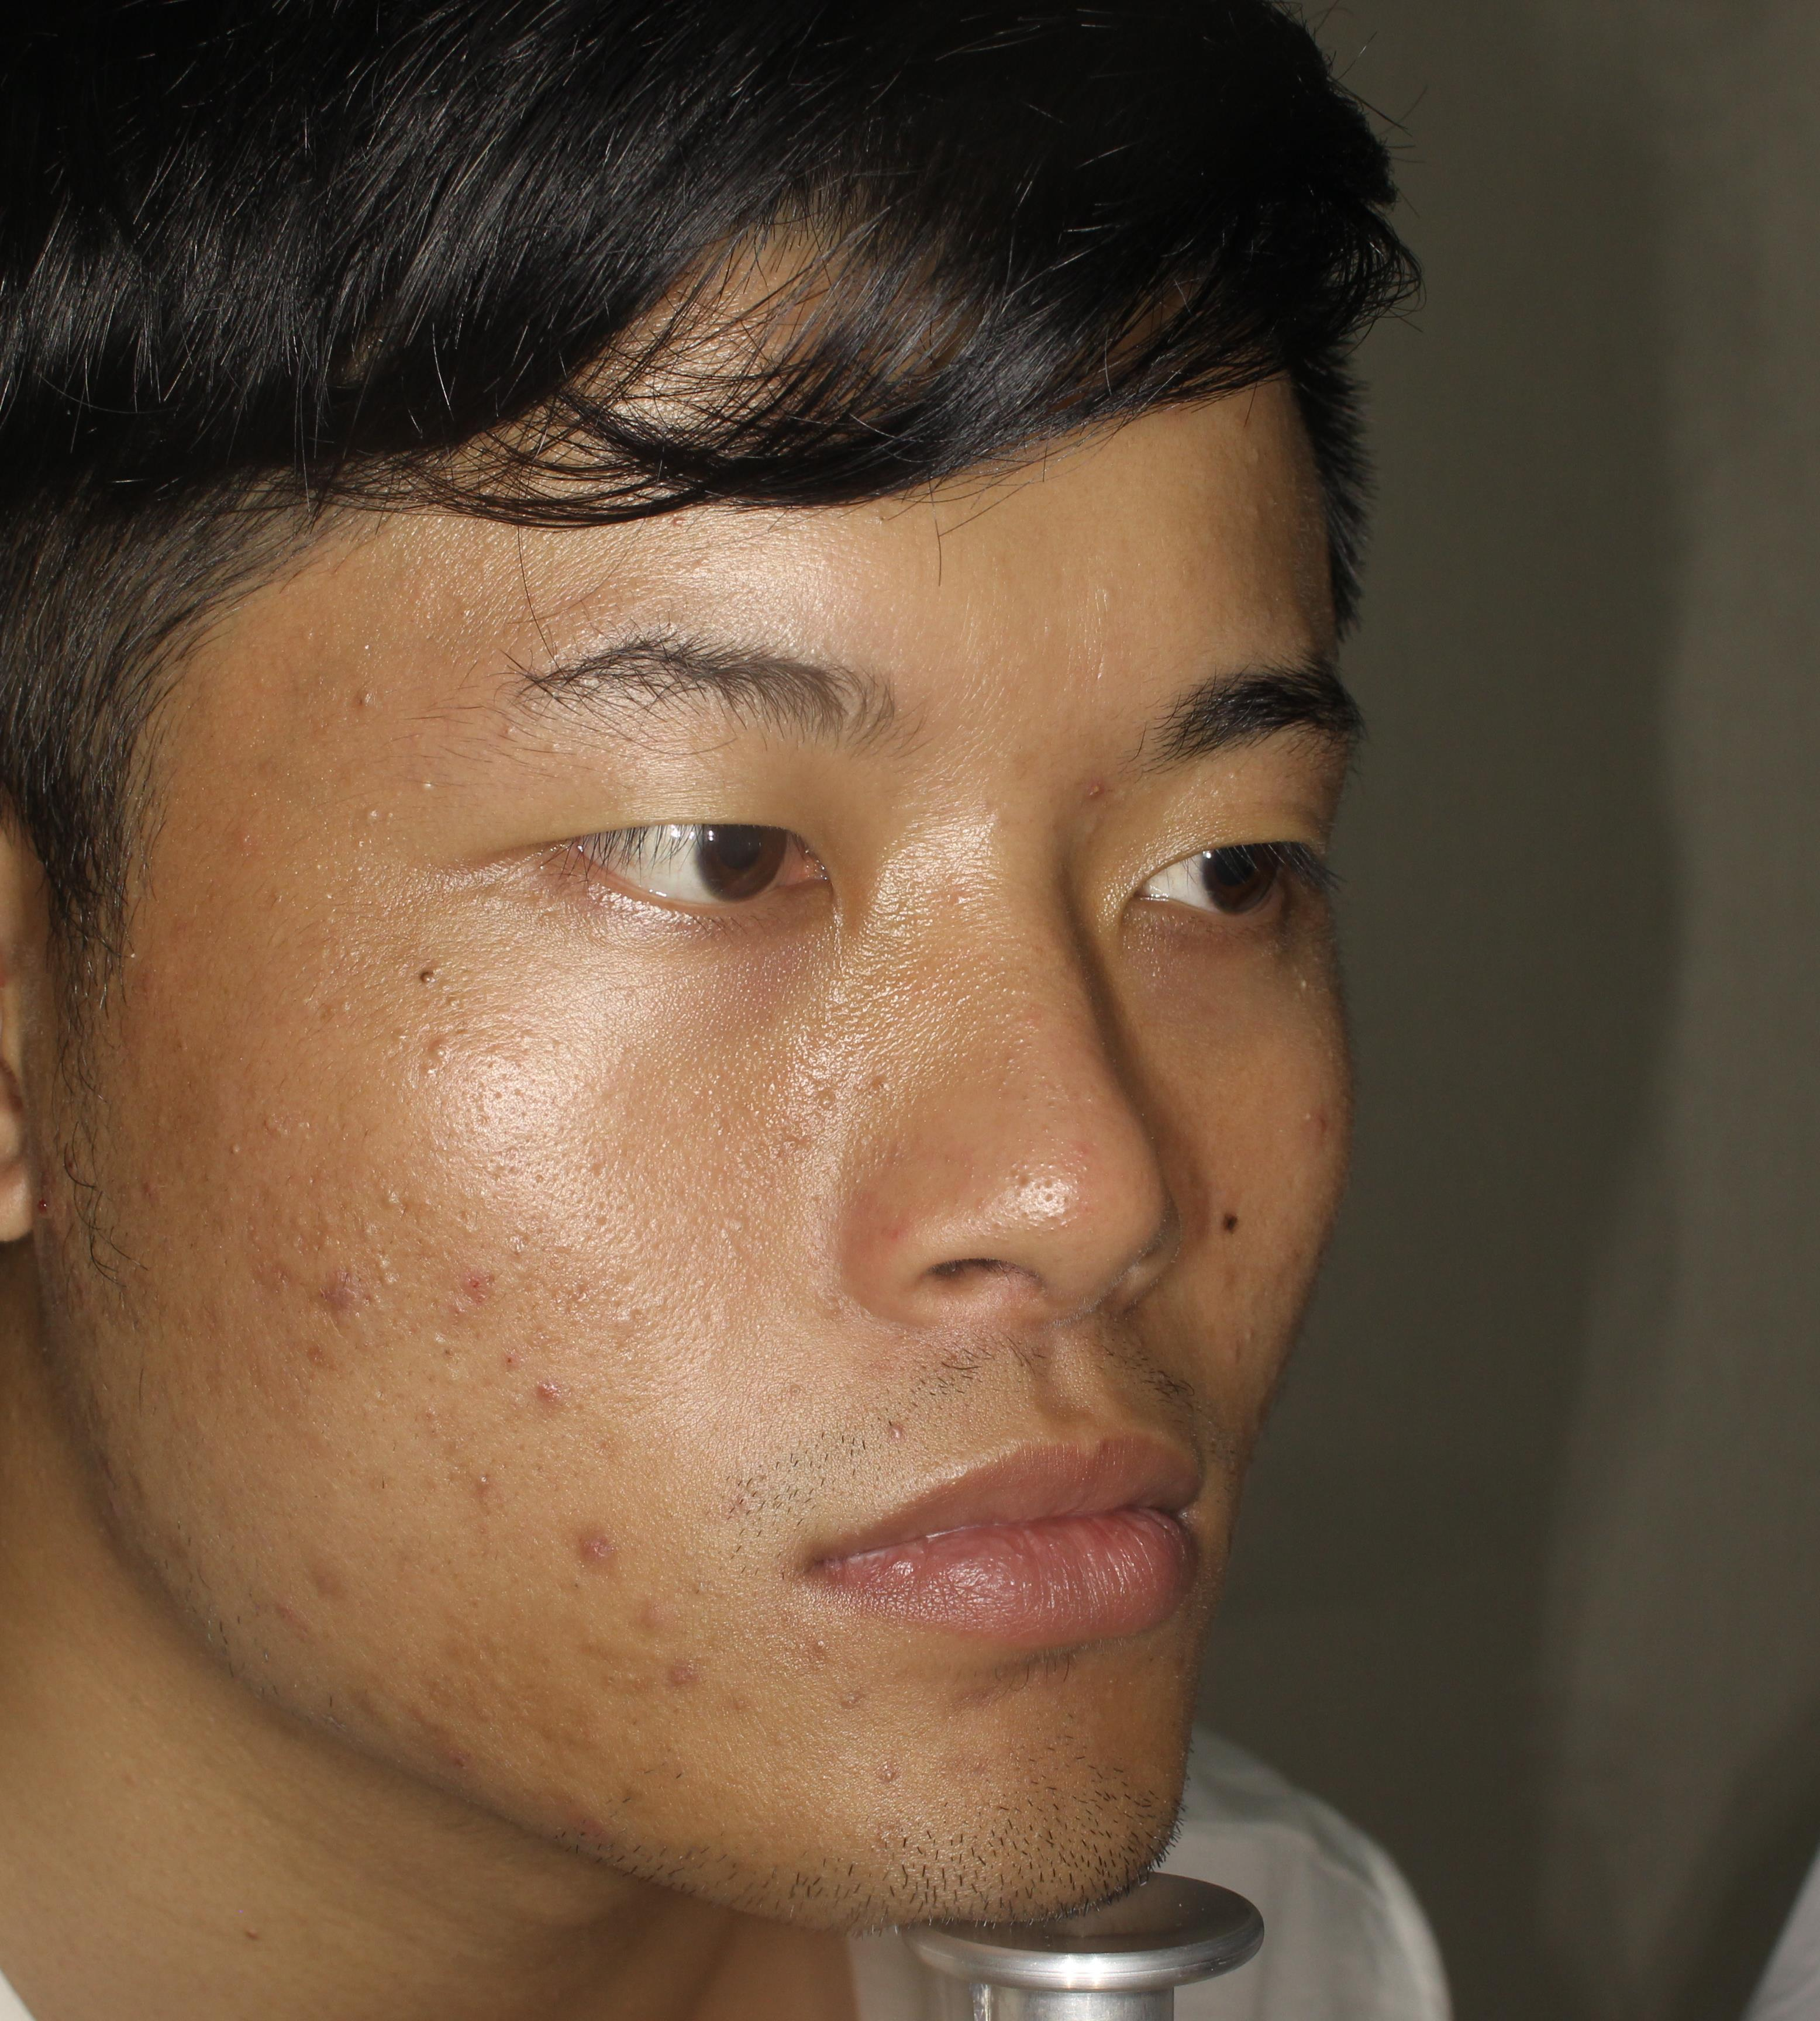fore: (548, 1482, 629, 1580), (386, 1693, 471, 1773), (646, 1635, 727, 1710), (511, 1370, 589, 1442), (450, 1240, 511, 1329), (611, 1577, 682, 1643), (292, 1320, 355, 1387), (283, 1257, 360, 1312), (292, 1531, 351, 1598), (251, 1586, 311, 1643)
